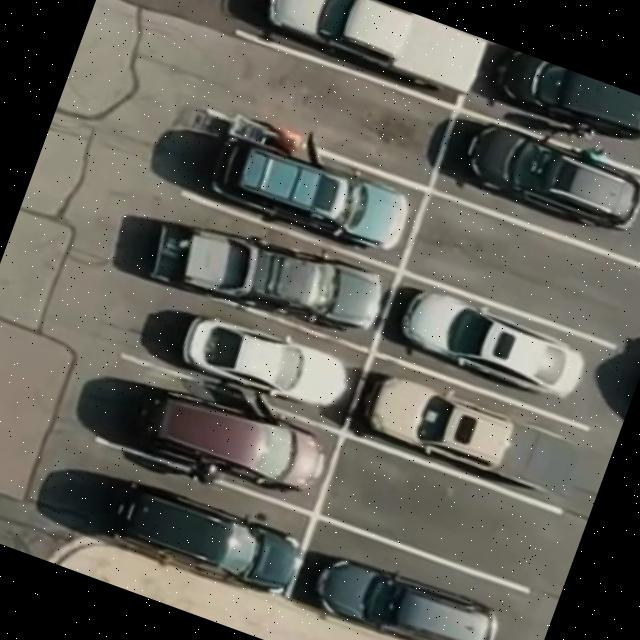empty: (209, 32, 454, 191), (407, 188, 639, 345), (311, 439, 545, 589)
occupied: (158, 212, 364, 331), (448, 109, 640, 231), (104, 472, 298, 592), (239, 0, 479, 90), (136, 382, 324, 492), (402, 287, 585, 398), (217, 148, 399, 256), (187, 314, 342, 408), (324, 558, 498, 640), (372, 368, 514, 468), (490, 46, 640, 139)
